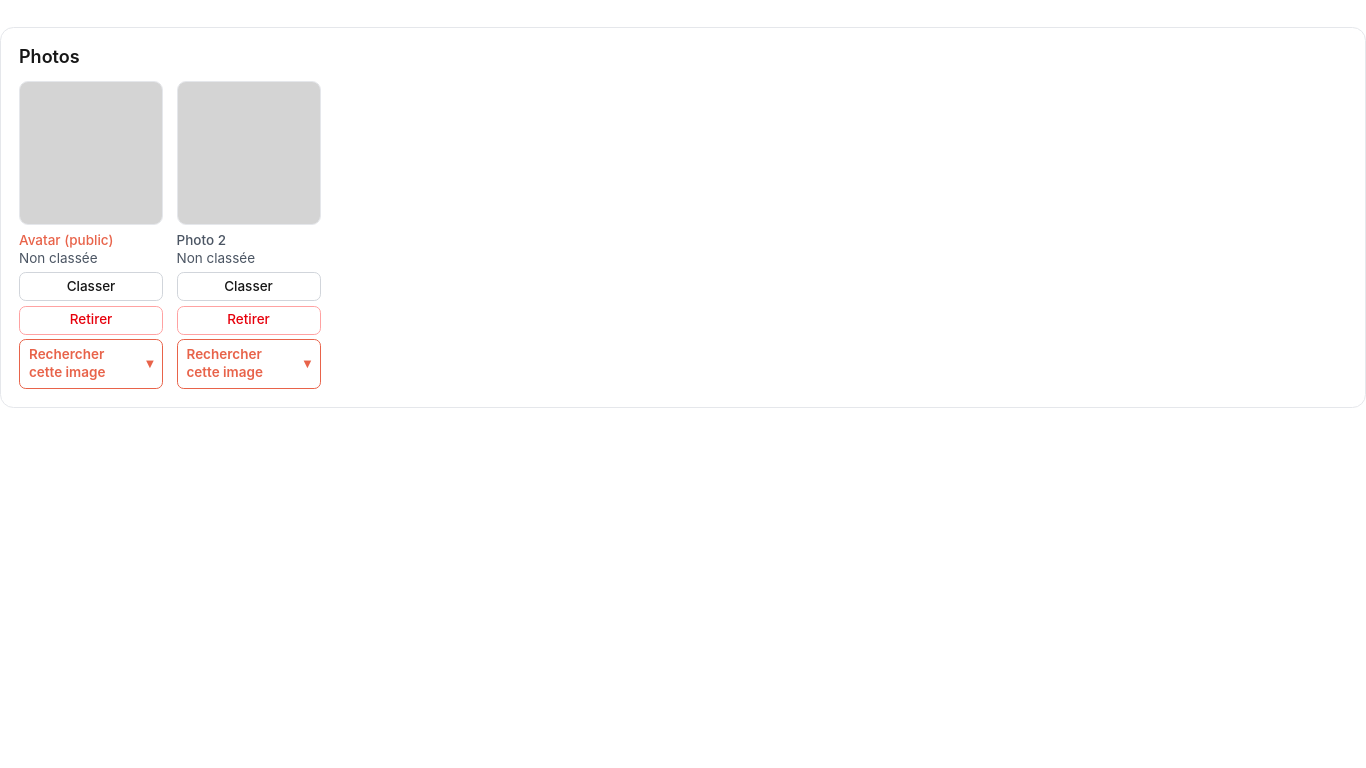
Scenario: <AdminUserPhotos /> › refuse le retrait sans motif et n'appelle pas l'API
Click the button "Retirer" below "Avatar (public)".
click(91, 320)  # box [19,306,163,335]
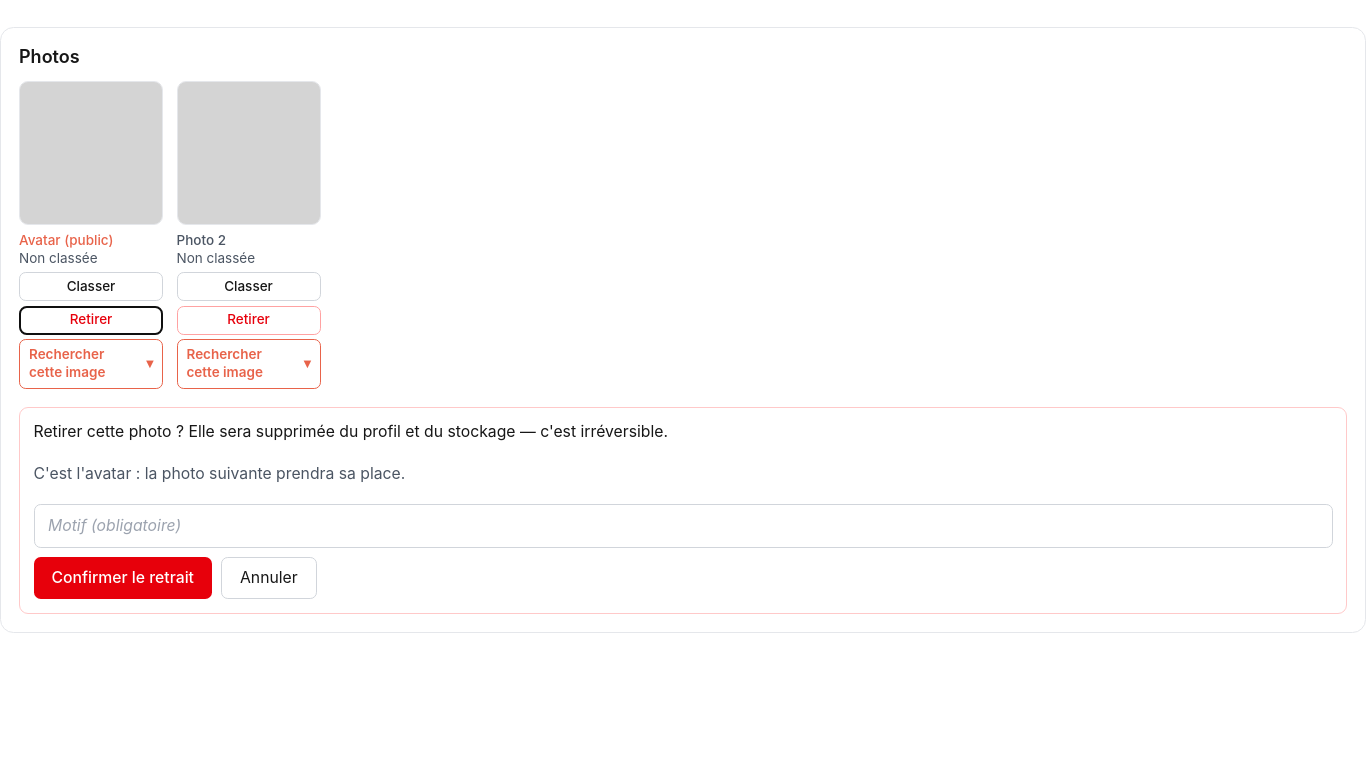
Click the button "Confirmer le retrait".
click(123, 578)  # box [34,557,212,599]
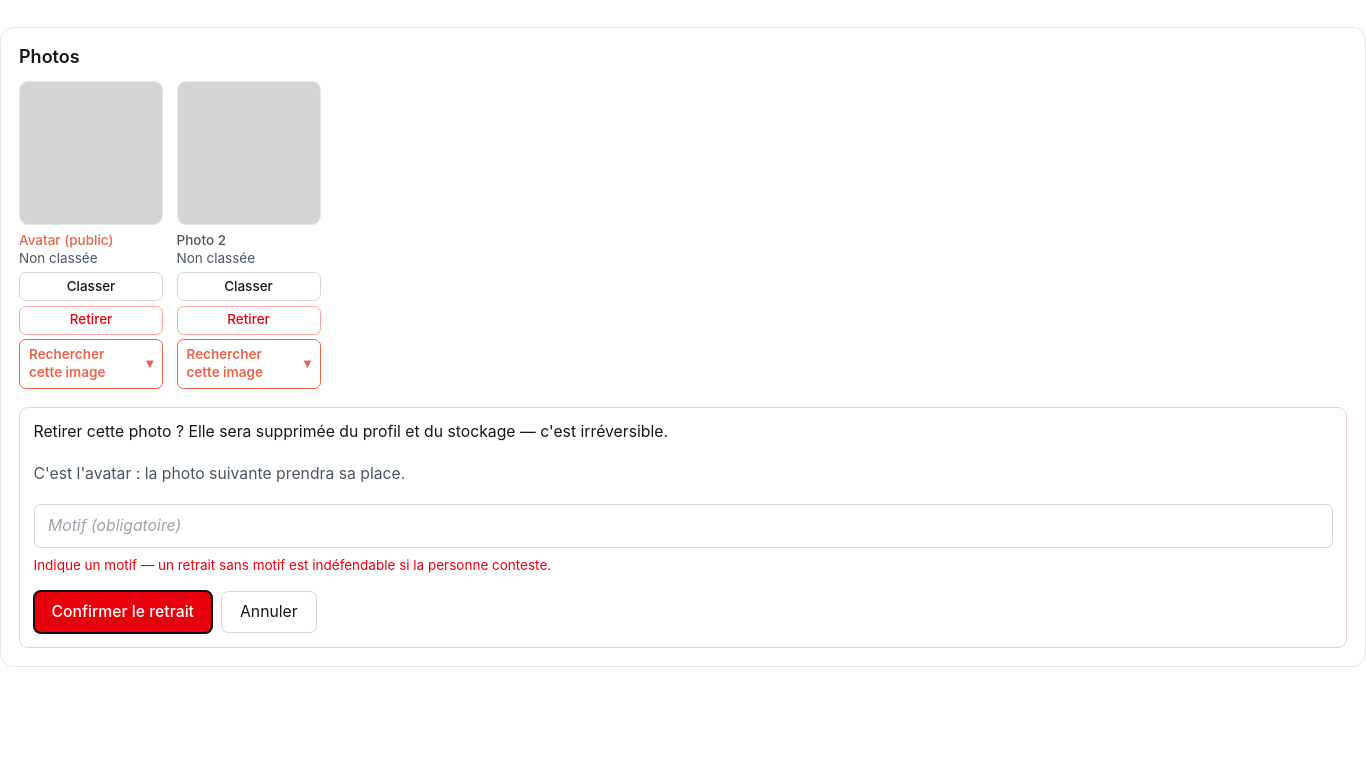
Result: the text "indéfendable" is shown at [34,557,551,573]
